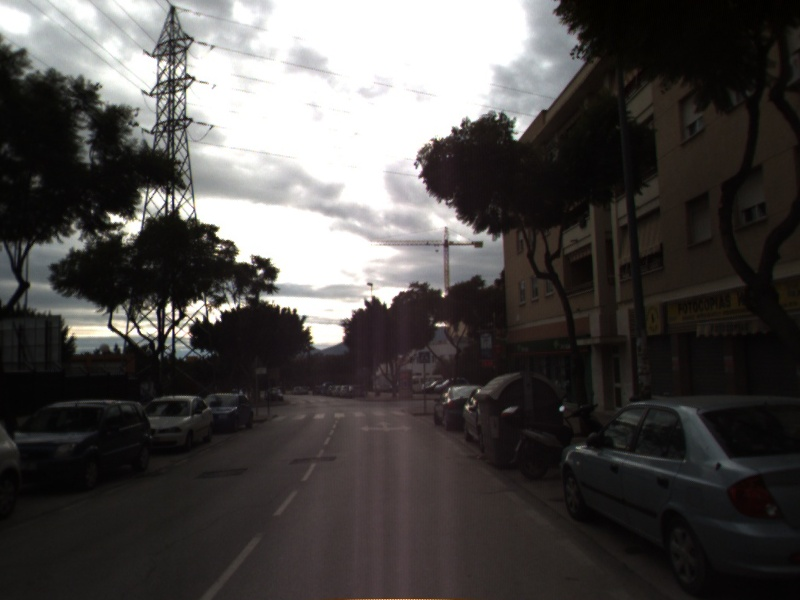STRAIGHT_LEFT_RIGHT: (358, 419, 414, 434)
